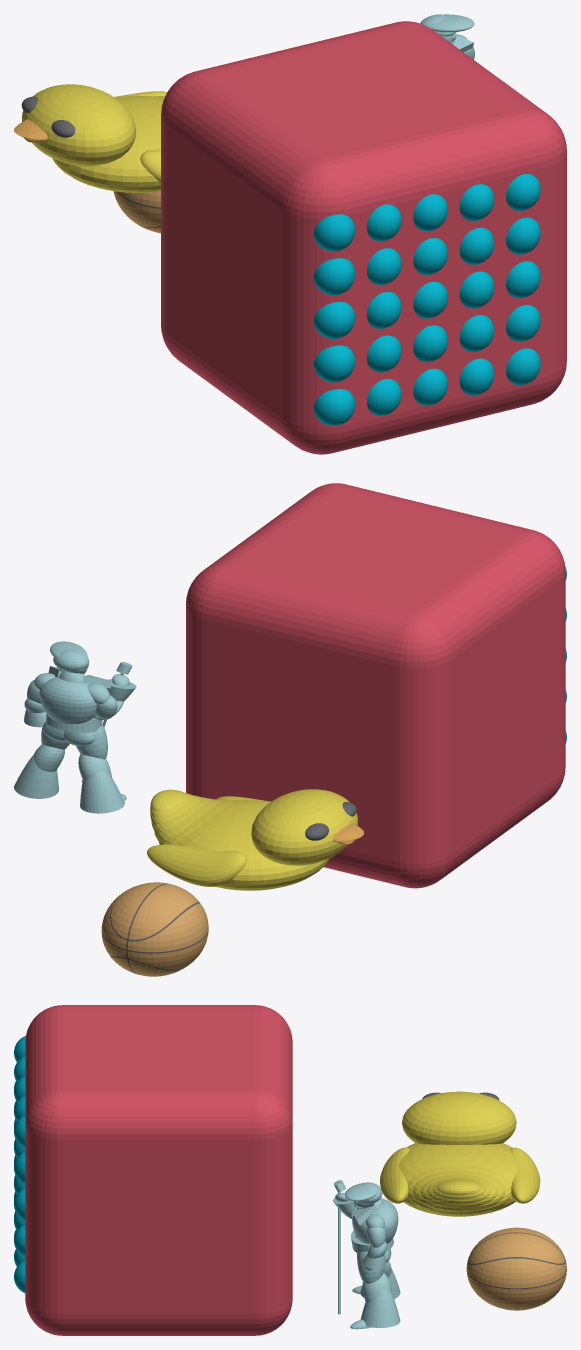
Rendered from cody benson 13.glb.
3 renders of one model, top to bottom at view 1: azimuth 30°, elevation 25°; view 2: azimuth 150°, elevation 25°; view 3: azimuth 270°, elevation 25°, orthographic. The views are drawn at different scales.
Parts seen in each view (by area): view 1: Mesh_Mesh_head_geo.001_lambert2SG.001; view 2: Mesh_Mesh_head_geo.001_lambert2SG.001; view 3: Mesh_Mesh_head_geo.001_lambert2SG.001.
Part boxes in pixels (x1,y1,x2,y2): Mesh_Mesh_head_geo.001_lambert2SG.001: (14,14,566,454); Mesh_Mesh_head_geo.001_lambert2SG.001: (14,483,566,976); Mesh_Mesh_head_geo.001_lambert2SG.001: (14,1005,566,1335).
Bounding box in the file's own units: 0.0599 × 0.0409 × 0.0827.
